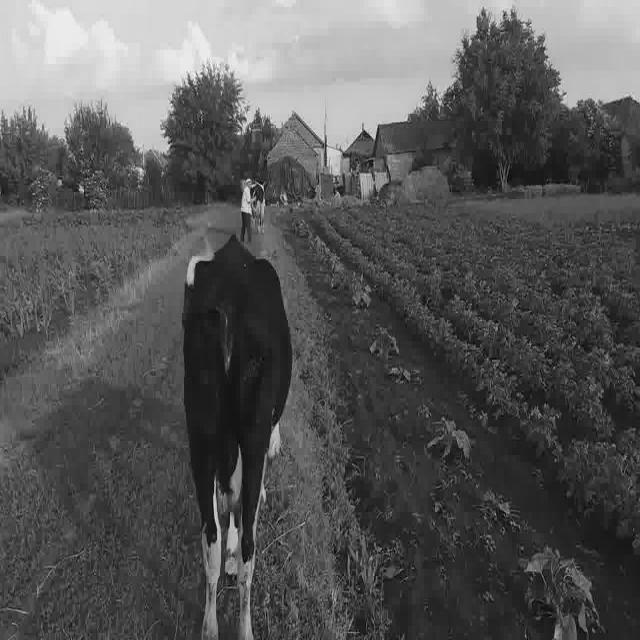cow: (182, 235, 291, 639)
